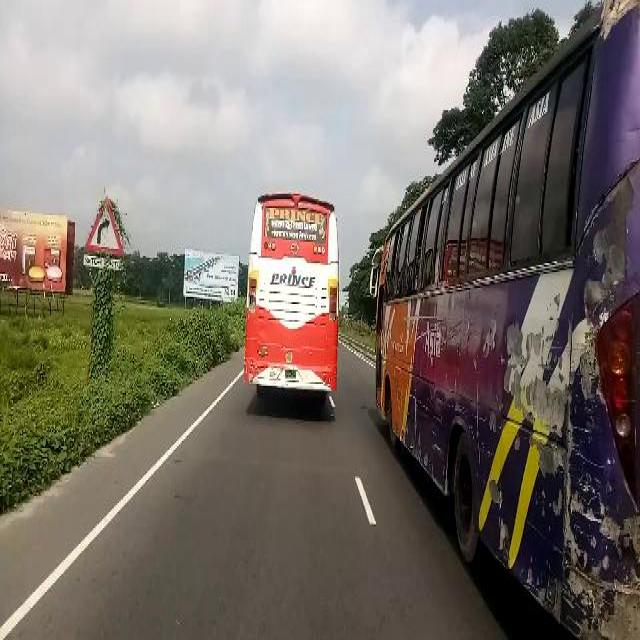vehicle: (370, 5, 640, 638), (250, 192, 340, 404)
